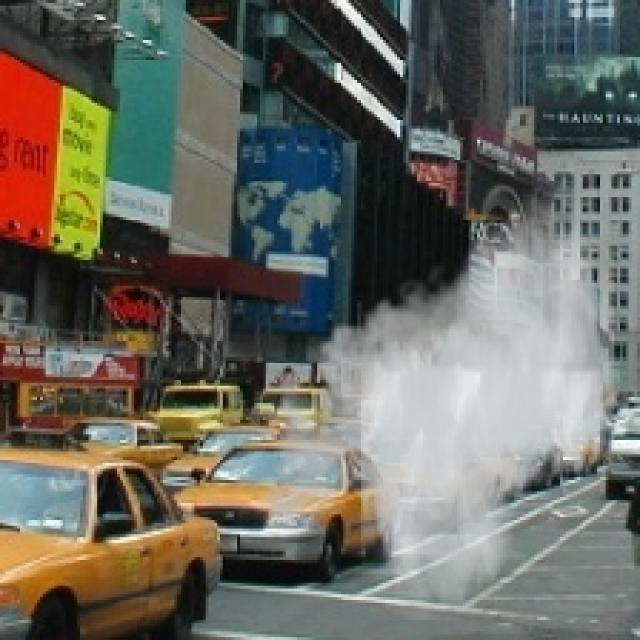smoke: (252, 194, 614, 620)
